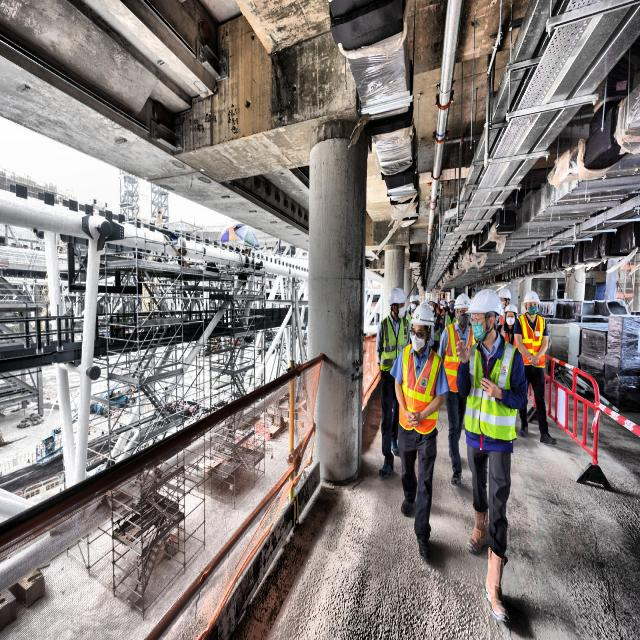safety_helmet: (407, 299, 439, 356), (471, 290, 502, 322), (386, 285, 409, 309), (446, 287, 470, 307), (523, 286, 542, 308), (504, 301, 520, 318)
safety_jacket: (456, 343, 518, 447), (398, 346, 438, 435), (512, 312, 554, 366), (376, 306, 409, 374), (444, 320, 477, 385)
